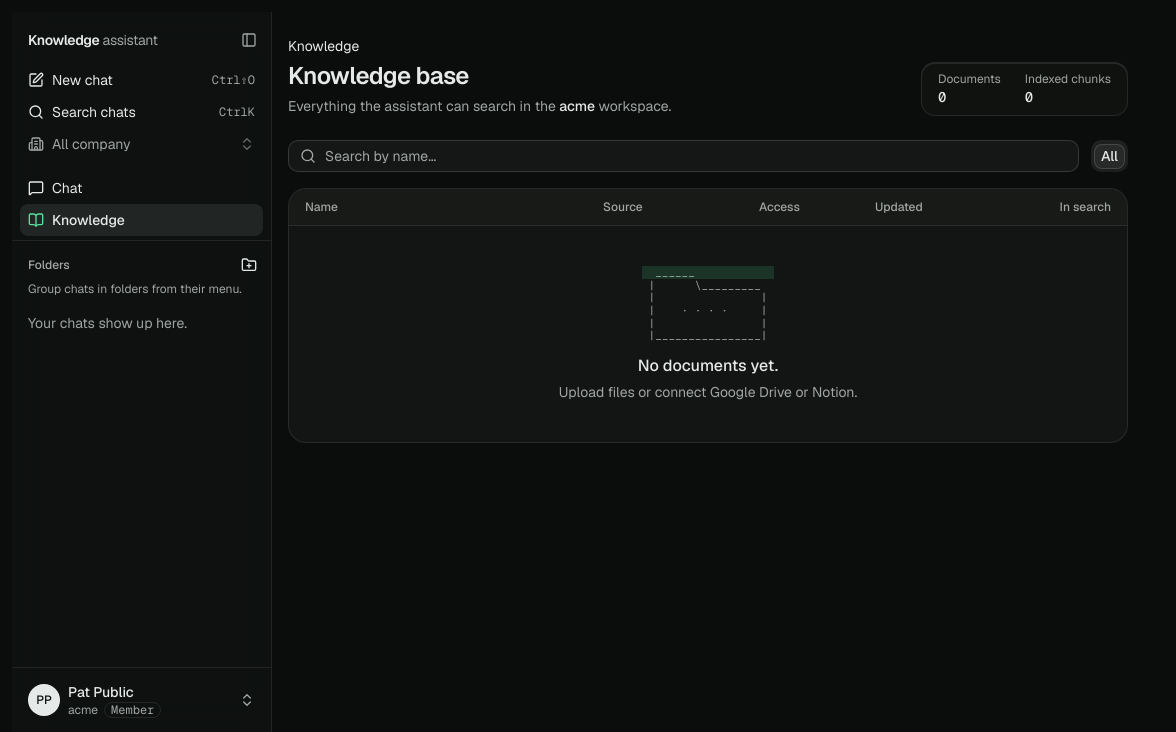
Scenario: the account menu › is short for a member: Settings, Appearance, the shortcuts, the tour and Sign out
Step 1. Click the button "PP Pat Public acme Member" → (142, 700), box [20,676,263,724]
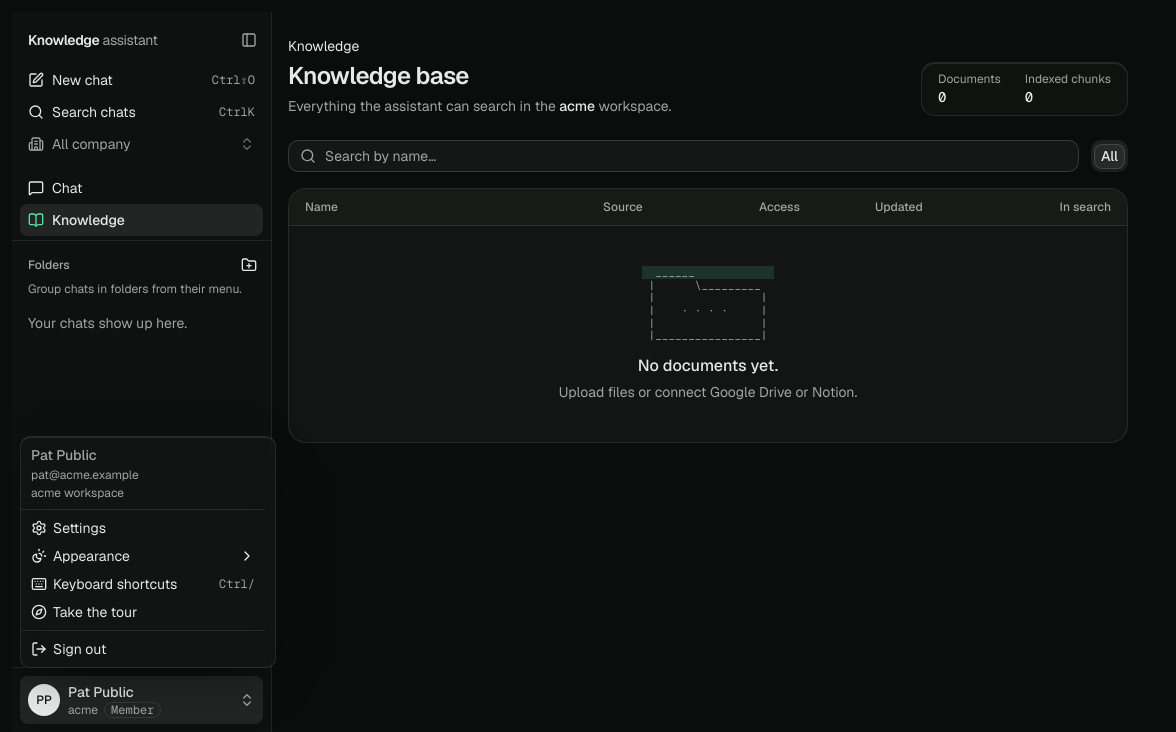
Expected: the text "pat@acme.example" is shown, [31,467,139,483]
Expected: the text "acme workspace" is shown, [31,485,124,501]
